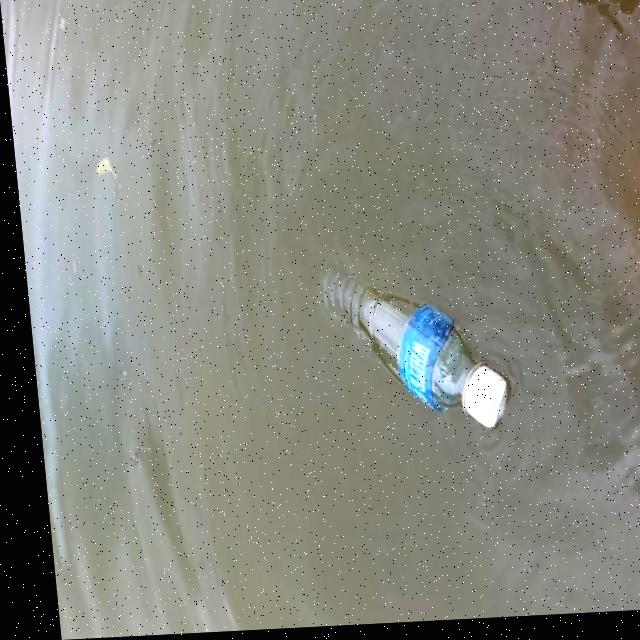waterbottle: (285, 233, 513, 448)
